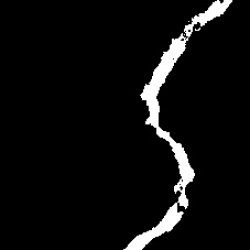crack: (125, 4, 228, 246)
